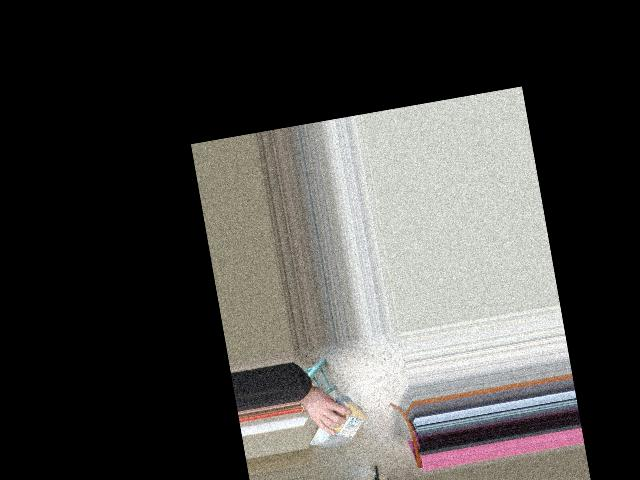cheese: (305, 396, 369, 449)
